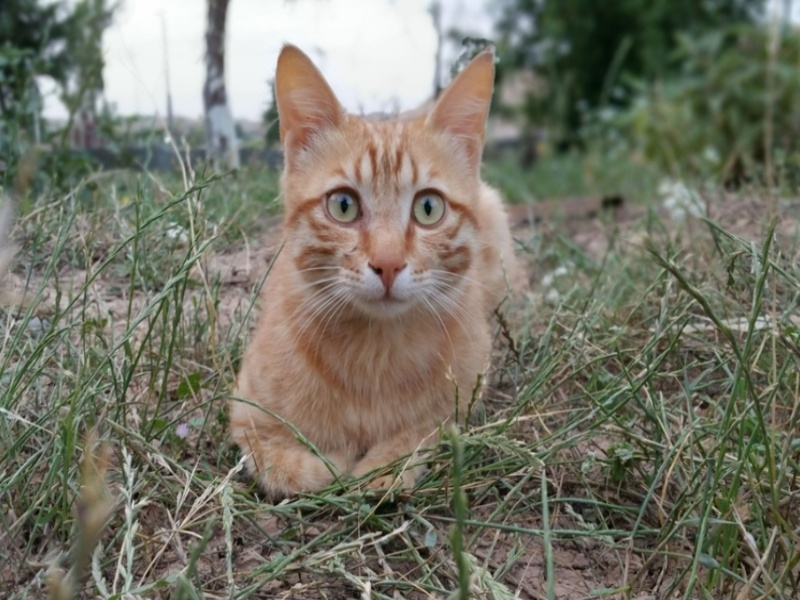cat: (220, 41, 532, 513)
